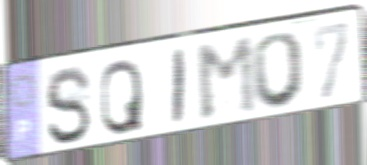7: (312, 19, 351, 104)
I: (170, 45, 189, 130)
M: (192, 34, 261, 126)
O: (252, 29, 308, 111)
Q: (99, 55, 146, 138)
S: (43, 64, 94, 148)
